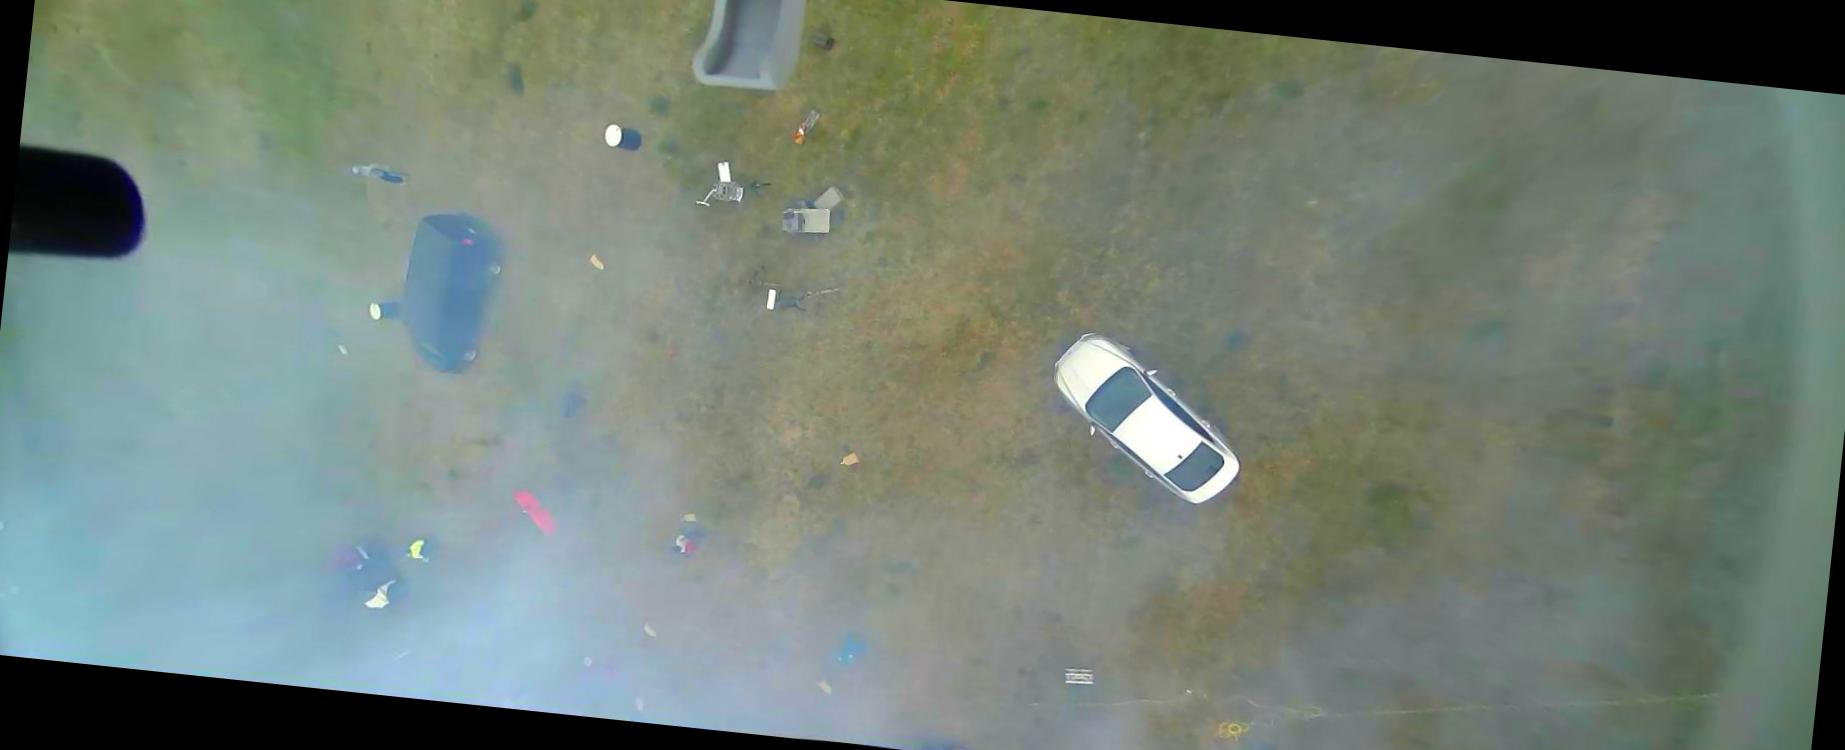vehicle: (1039, 326, 1253, 507), (393, 206, 508, 379), (331, 532, 414, 613)
